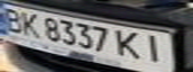3: (54, 18, 78, 46), (72, 20, 93, 51)
7: (90, 24, 115, 54)
8: (39, 15, 60, 43)
B: (0, 4, 27, 34)
I: (139, 31, 172, 64)
K: (112, 28, 148, 62), (18, 10, 42, 38)
